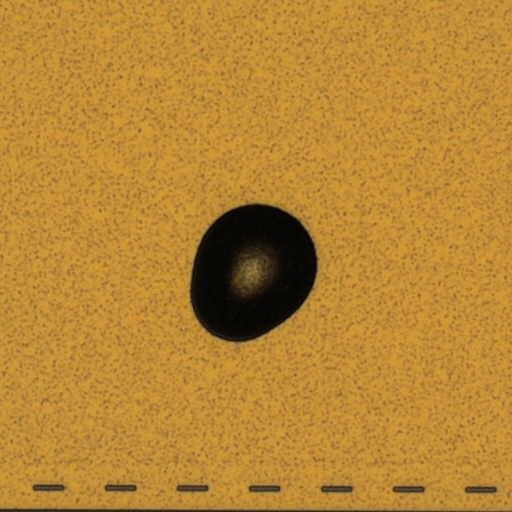PIQ PARTICLE: (174, 198, 330, 354)
